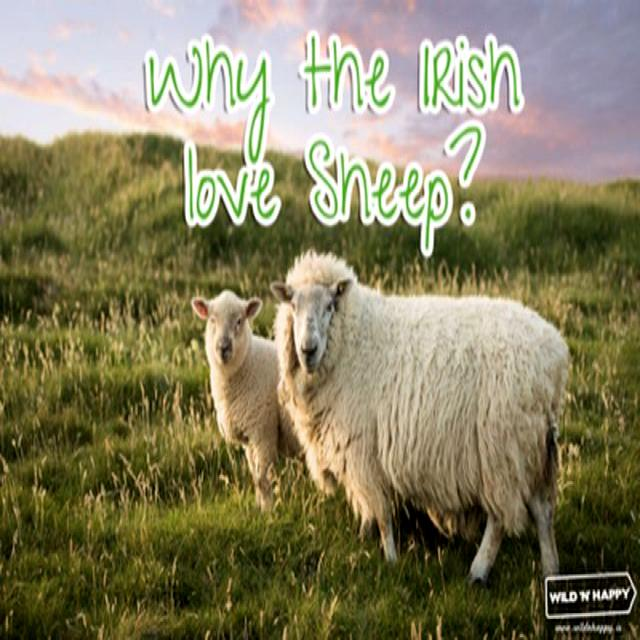sheep: (270, 252, 569, 588)
